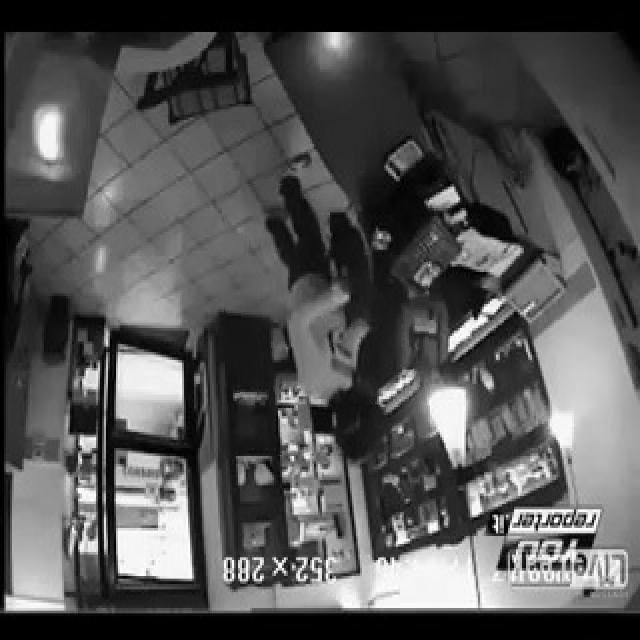Shoplifting: (223, 184, 429, 455)
